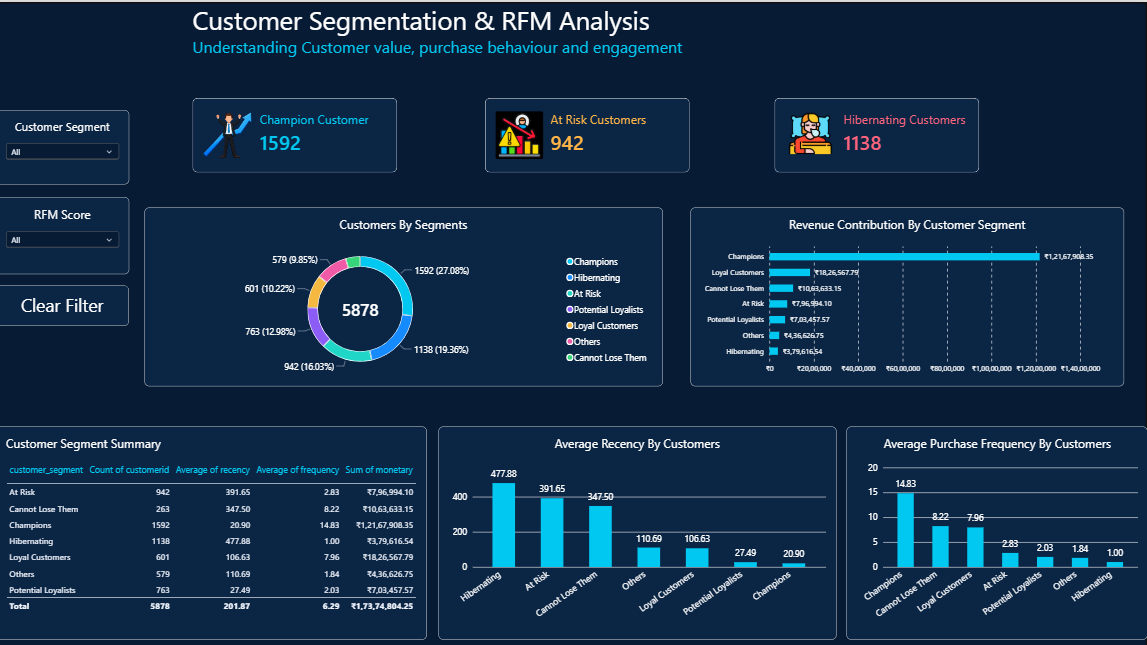

Layout of this report page (visuals, bound fields, positions):
{"tool":"powerbi","page":{"name":"RFM Customer Segmentation","canvas":[1920,1080],"ordinal":1},"visuals":[{"type":"donutChart","title":"Customers By Segments","fields":{"Category":["public customer_segments.customer_segment"],"Y":["Count(public customer_segments.customerid)"]},"box":[248.1,343.6,863.7,298.2],"z":0},{"type":"clusteredBarChart","title":"Revenue Contribution  By  Customer Segment","fields":{"Category":["public customer_segments.customer_segment"],"Y":["Sum(public customer_segments.monetary)"]},"box":[1157.2,343.6,722.9,298.2],"z":1},{"type":"cardVisual","fields":{"Data":["public customer_segments.Champion Customer"]},"box":[326.9,159.9,341.2,124.1],"z":2},{"type":"cardVisual","fields":{"Data":["public customer_segments.At Risk Customers"]},"box":[816,159.9,341.2,124.1],"z":3},{"type":"cardVisual","fields":{"Data":["public customer_segments.Hibernating Customers"]},"box":[1297.9,159.9,341.2,124.1],"z":4},{"type":"clusteredColumnChart","title":"Average Recency By Customers","fields":{"Category":["public customer_segments.customer_segment"],"Y":["Avg(public customer_segments.recency)"]},"box":[737.2,708.6,663.3,355.5],"z":5},{"type":"clusteredColumnChart","title":"Average Purchase  Frequency By Customers","fields":{"Category":["public customer_segments.customer_segment"],"Y":["Avg(public customer_segments.frequency)"]},"box":[1417.2,708.6,503.4,355.5],"z":6},{"type":"tableEx","title":"Customer Segment Summary ","fields":{"Values":["public customer_segments.customer_segment","public customer_segments.customerid","public customer_segments.recency","public customer_segments.frequency","public customer_segments.monetary"]},"box":[0,708.6,718.2,355.5],"z":7},{"type":"listSlicer","title":"Customer Segment","fields":{"Values":["public customer_segments.customer_segment"]},"box":[0,178.9,221.9,124.1],"z":8},{"type":"textbox","box":[326.9,0,987.8,116.9],"z":9},{"type":"listSlicer","title":"RFM Score","fields":{"Values":["public customer_segments.rfm_score"]},"box":[0,324.5,221.9,128.8],"z":10},{"type":"actionButton","box":[0,472.2,221.5,67],"z":11}]}

Visuals, with their boxes in screenshot pixels (x1, y1, x2, y2), scaled from the page's 1920x1080 canvas onto the 1147x645 screenshot:
"Customers By Segments" donutChart: [148, 205, 664, 383]
"Revenue Contribution  By  Customer Segment" clusteredBarChart: [691, 205, 1123, 383]
cardVisual - public customer_segments.Champion Customer: [195, 95, 399, 170]
cardVisual - public customer_segments.At Risk Customers: [487, 95, 691, 170]
cardVisual - public customer_segments.Hibernating Customers: [775, 95, 979, 170]
"Average Recency By Customers" clusteredColumnChart: [440, 423, 837, 636]
"Average Purchase  Frequency By Customers" clusteredColumnChart: [847, 423, 1146, 636]
"Customer Segment Summary " tableEx: [0, 423, 429, 636]
"Customer Segment" listSlicer: [0, 107, 133, 181]
textbox: [195, 0, 785, 70]
"RFM Score" listSlicer: [0, 194, 133, 271]
actionButton: [0, 282, 132, 322]
